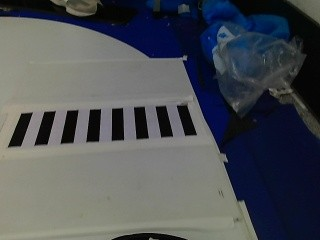crosswalk: (3, 102, 198, 147)
